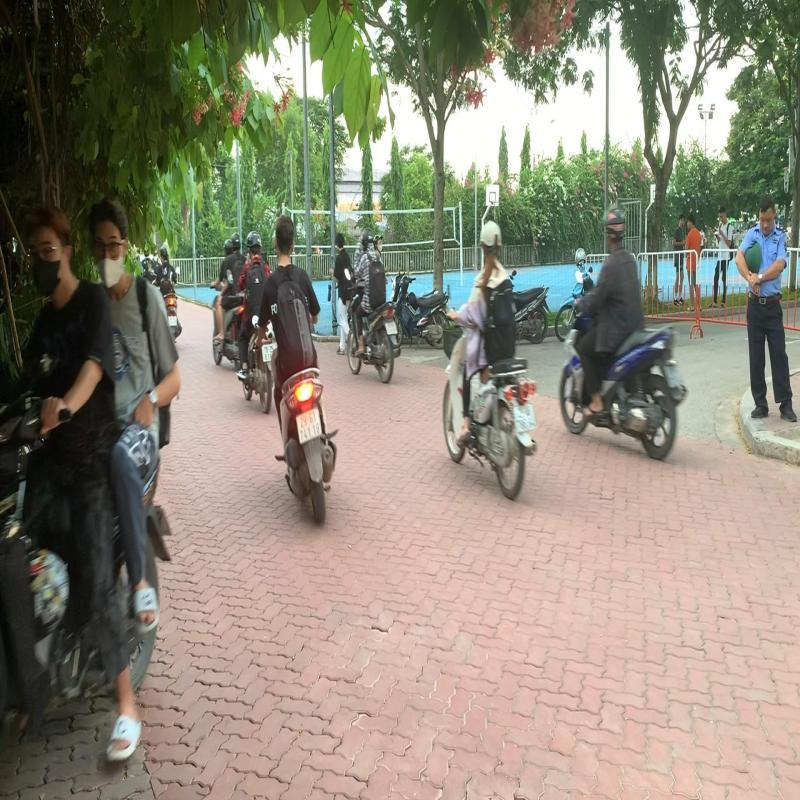nohelmet: (272, 210, 300, 258)
